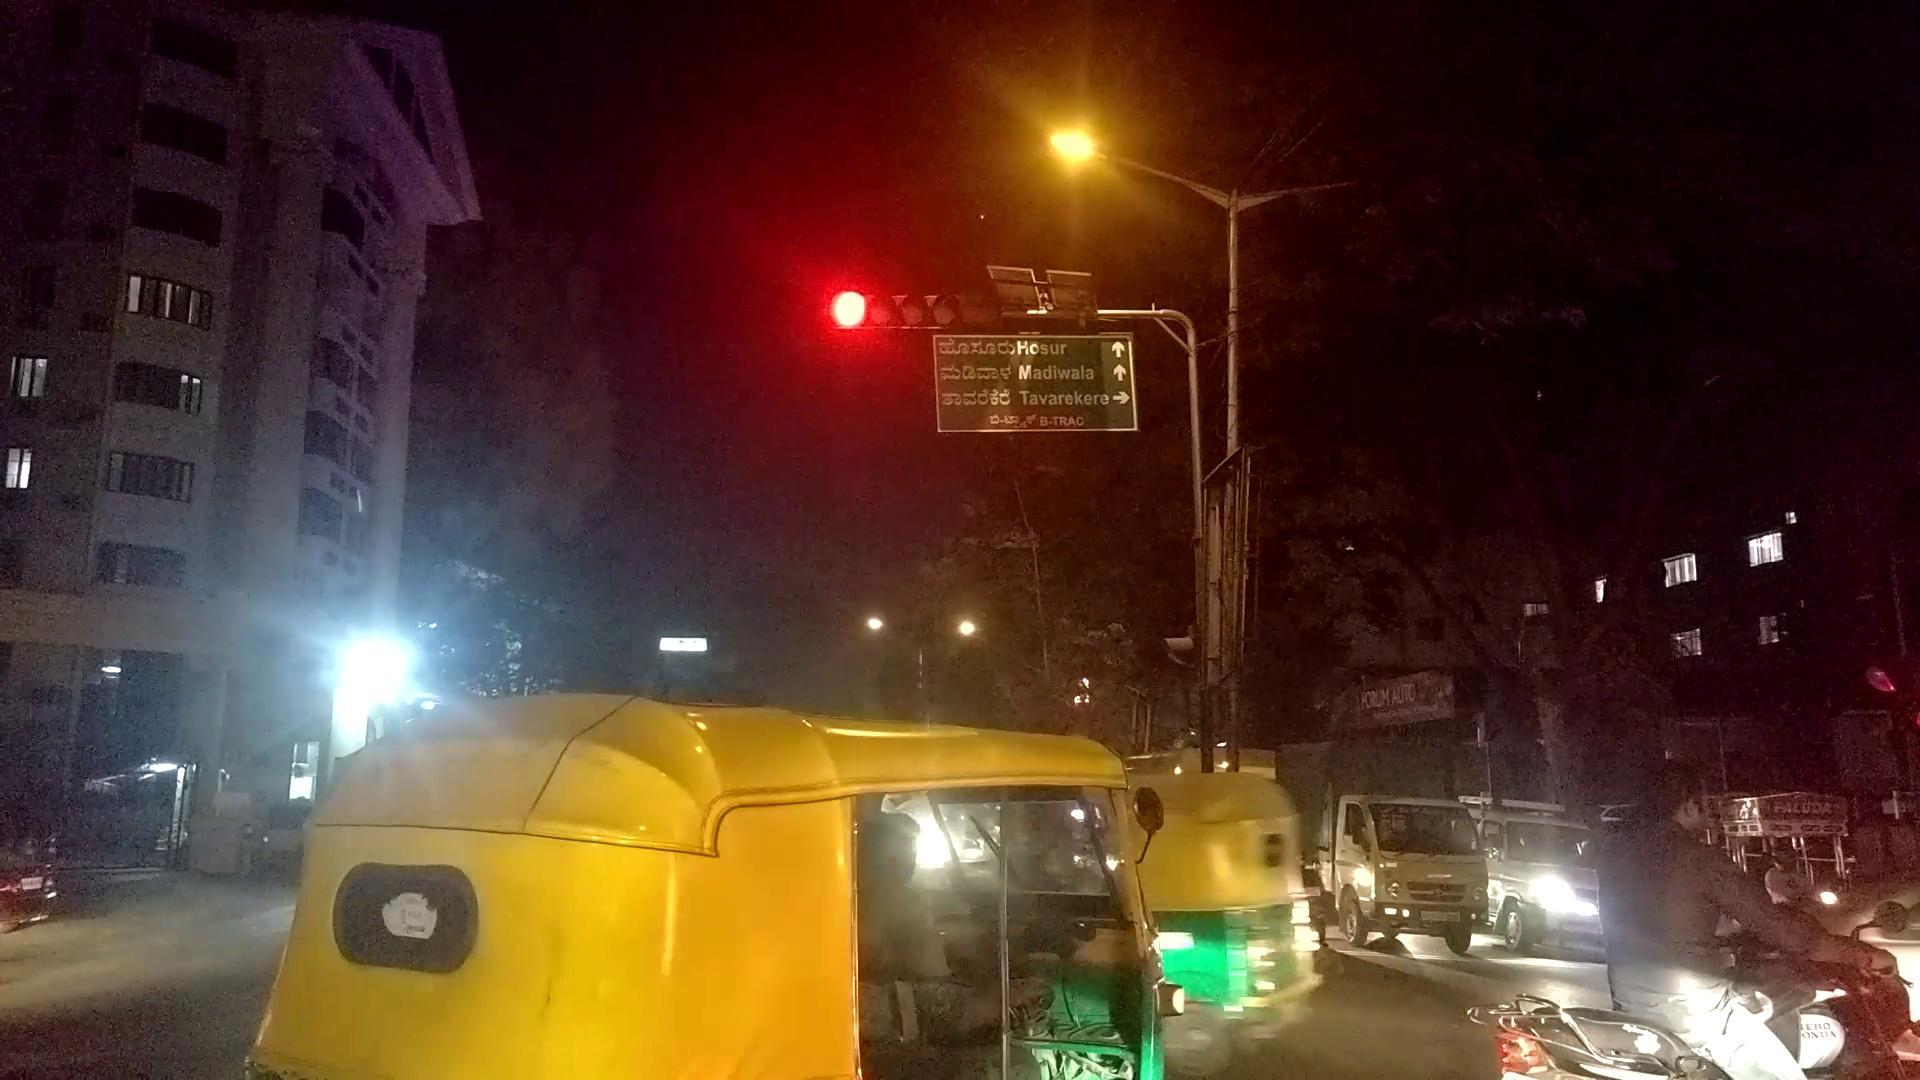on: (930, 0, 1238, 347)
